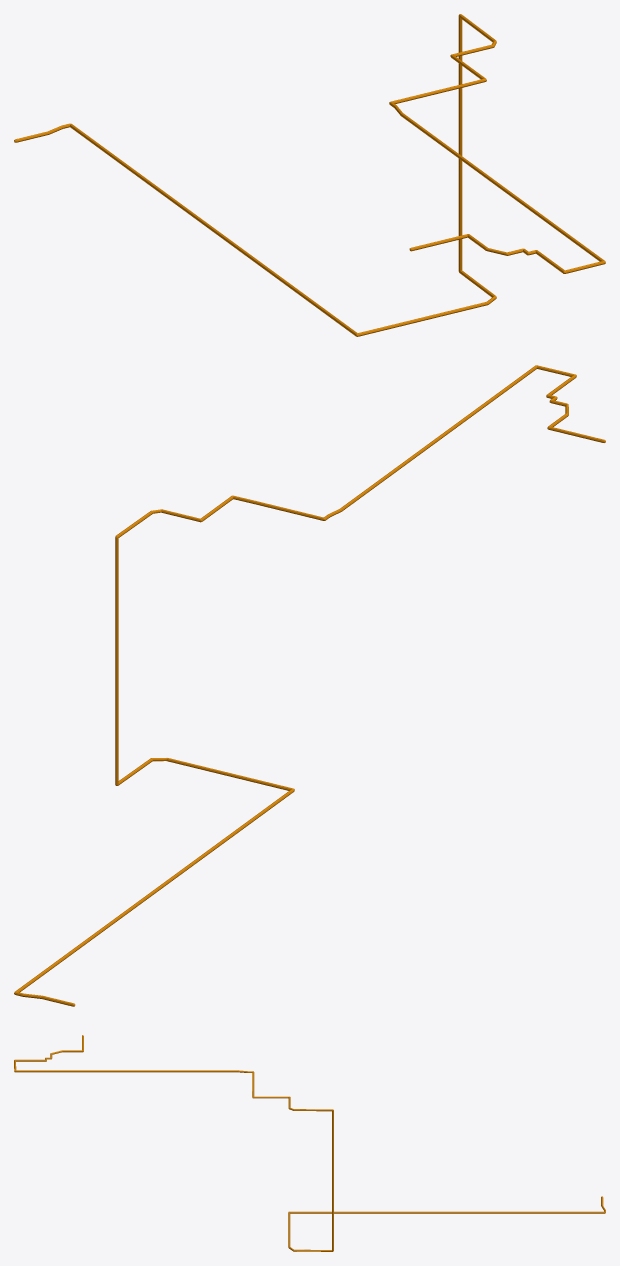
The picture shows the model from 3 angles, top to bottom: view 1: azimuth 30°, elevation 25°; view 2: azimuth 150°, elevation 25°; view 3: azimuth 270°, elevation 25°; orthographic projection. The views are drawn at different scales.
Bounding box in the file's own units: 1717 × 1520 × 5722.
